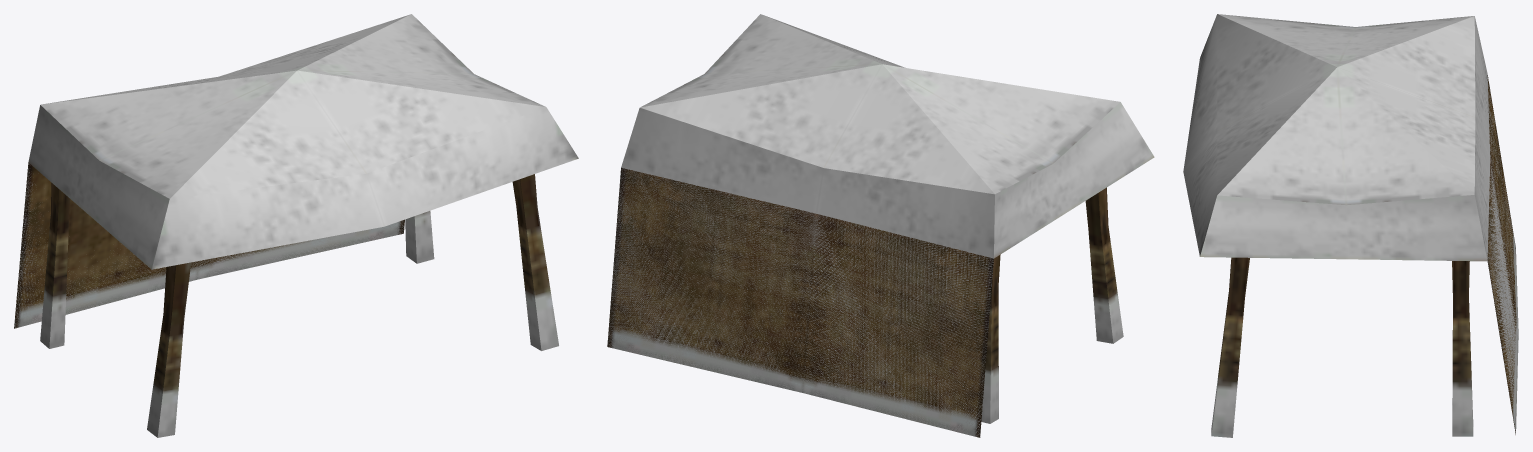
The model's file is nsm-general_obj_06.fbx.
3 renders of one model, left to right at view 1: azimuth 30°, elevation 25°; view 2: azimuth 150°, elevation 25°; view 3: azimuth 270°, elevation 25°, orthographic. The views are drawn at different scales.
Visible parts, largest first — view 1: Object02; view 2: Object02; view 3: Object02.
Boxes of the visible parts, x1,y1,x2,y2 form: Object02: [14, 14, 578, 437]; Object02: [607, 14, 1154, 437]; Object02: [1183, 14, 1518, 437].
Bounding box in the file's own units: 5.57 × 3.49 × 3.84.
